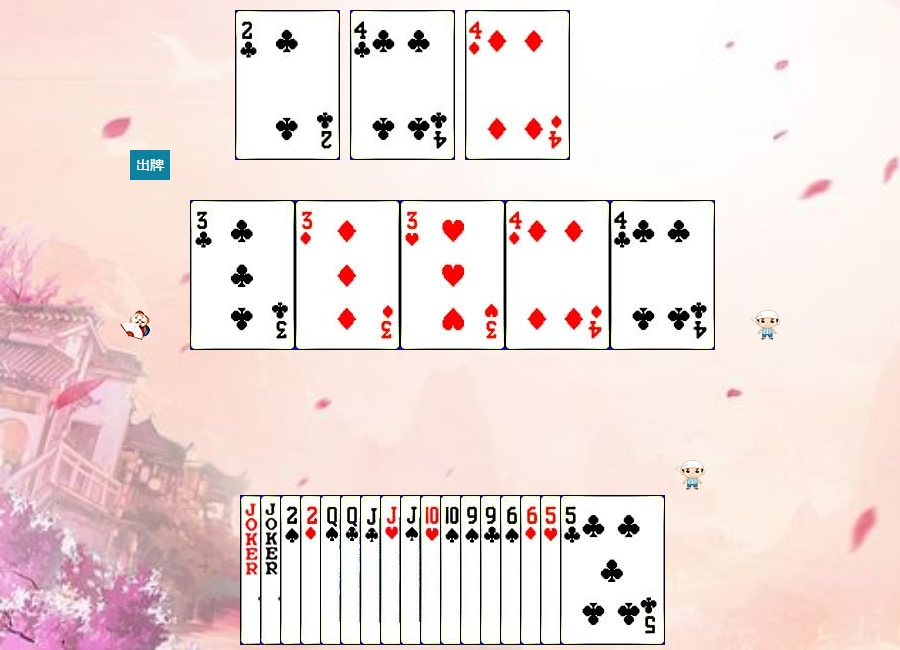10~3: (420, 495, 525, 645)
10~4: (440, 495, 545, 645)
11~2: (360, 495, 465, 645)
11~3: (380, 495, 485, 645)
11~4: (400, 495, 505, 645)
12~2: (340, 495, 445, 645)
12~4: (320, 495, 425, 645)
15~1: (300, 495, 405, 645)
15~2: (235, 10, 340, 160)
15~4: (280, 495, 385, 645)
17~3: (260, 495, 365, 645)
18~4: (240, 495, 345, 645)
3~1: (295, 200, 400, 350)
3~2: (190, 200, 295, 350)
3~3: (400, 200, 505, 350)
4~1: (465, 10, 570, 160), (505, 200, 610, 350)
4~2: (350, 10, 455, 160), (610, 200, 715, 350)
5~2: (560, 495, 665, 645)
5~3: (540, 495, 645, 645)
6~1: (520, 495, 625, 645)
6~4: (500, 495, 605, 645)
9~2: (480, 495, 585, 645)
9~4: (460, 495, 565, 645)
